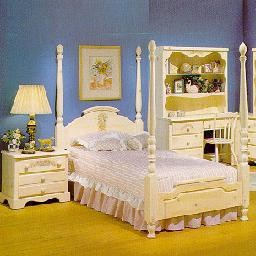Cama: (69, 117, 251, 228)
